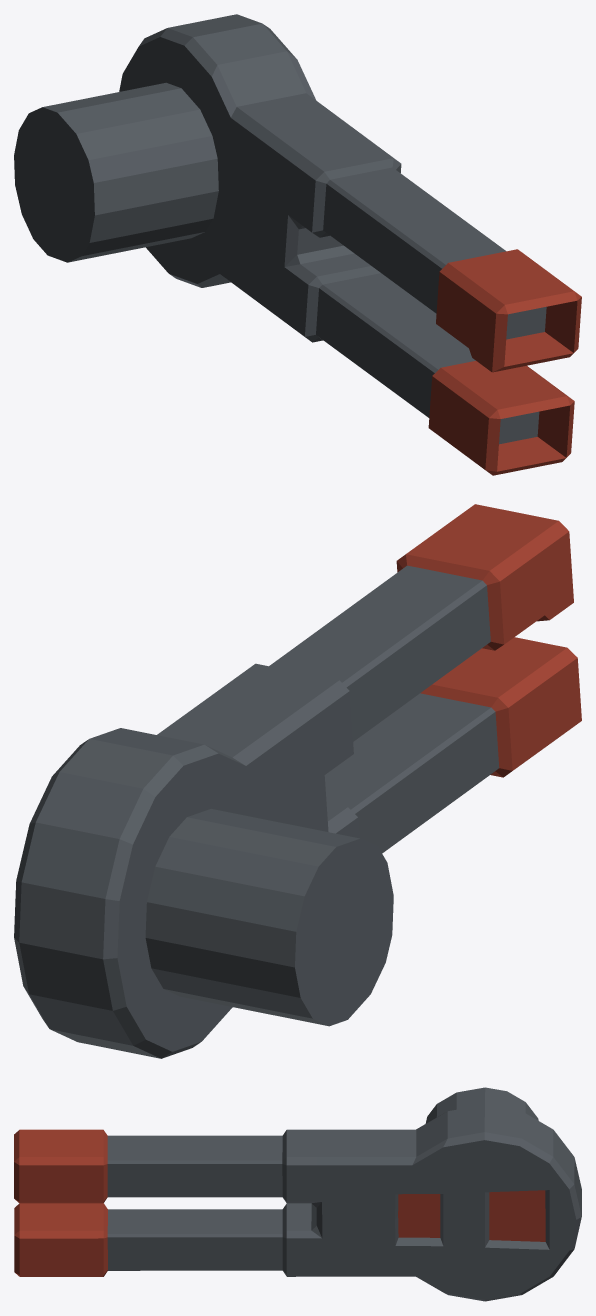
File: Dropship_04_Artillery_Red.fbx
3 renders of one model, top to bottom at view 1: azimuth 30°, elevation 25°; view 2: azimuth 150°, elevation 25°; view 3: azimuth 270°, elevation 25°, orthographic. The views are drawn at different scales.
Visible parts, largest first — view 1: Dropship_04_Artillery_Red; view 2: Dropship_04_Artillery_Red; view 3: Dropship_04_Artillery_Red.
Part boxes in pixels (box(x1,y1,x2,y2)): Dropship_04_Artillery_Red: box(14, 14, 581, 475); Dropship_04_Artillery_Red: box(14, 504, 581, 1058); Dropship_04_Artillery_Red: box(14, 1087, 581, 1301).
Bounding box in the file's own units: 69.09 × 71.62 × 207.
1 material, 1 textured.
